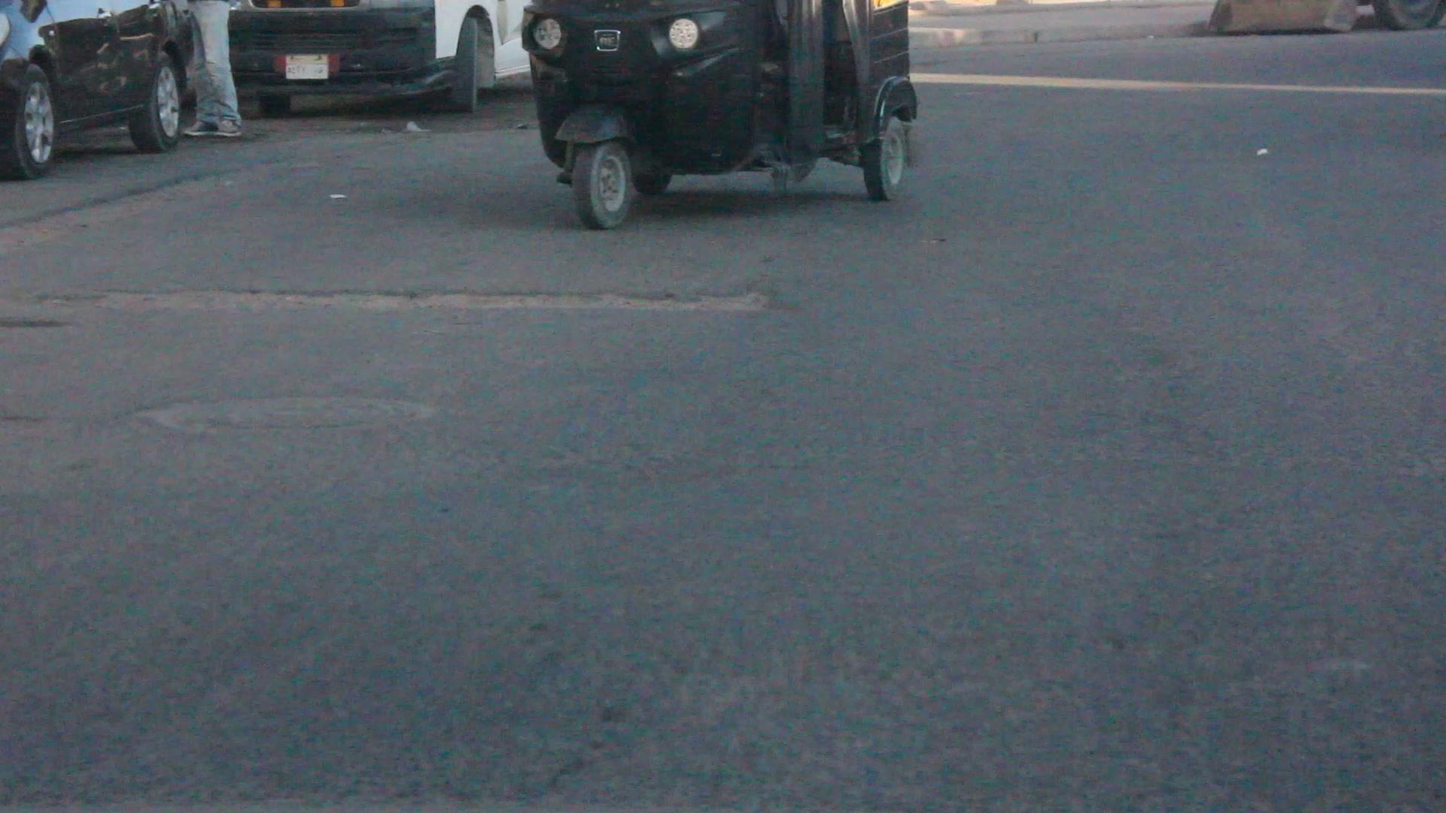Pothole: (73, 250, 802, 331)
